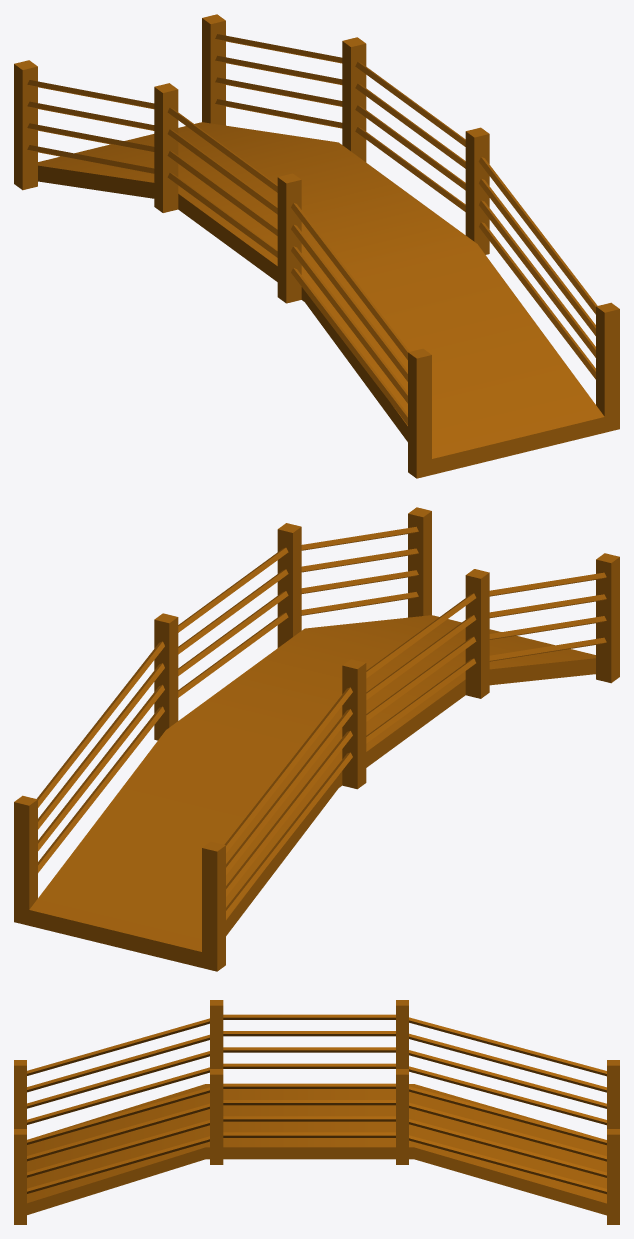
File: BalconyBridgeB_1.fbx
The picture shows the model from 3 angles, top to bottom: view 1: azimuth 30°, elevation 25°; view 2: azimuth 150°, elevation 25°; view 3: azimuth 270°, elevation 25°; orthographic projection. The views are drawn at different scales.
Parts seen in each view (by area): view 1: BalconyBridgeB_1; view 2: BalconyBridgeB_1; view 3: BalconyBridgeB_1.
Part boxes in pixels (left/top/right/bottom): BalconyBridgeB_1: left=14, top=14, right=619, bottom=478; BalconyBridgeB_1: left=14, top=507, right=619, bottom=971; BalconyBridgeB_1: left=14, top=1000, right=619, bottom=1224.
Bounding box in the file's own units: 164 × 154 × 563.
